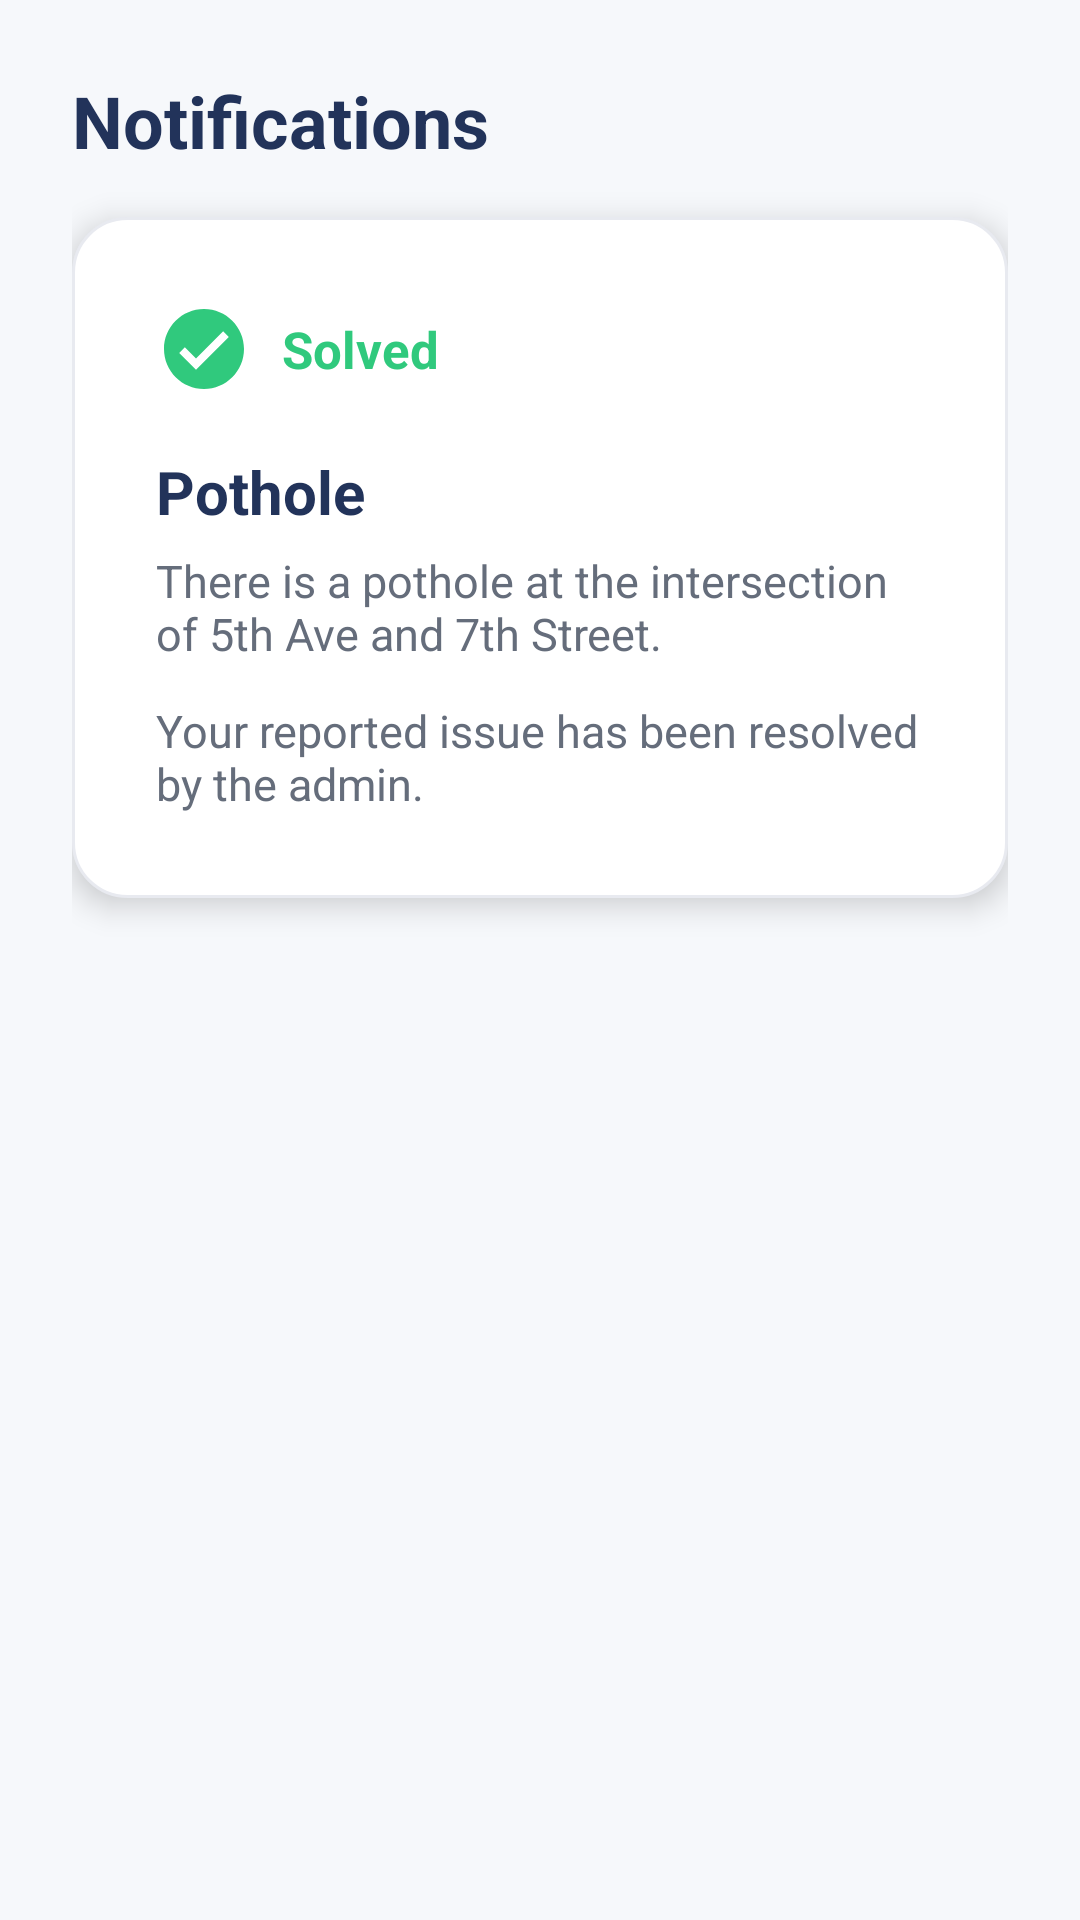

Icons on this 1080px x 1920px Android screen, each with the point to tap as [x,y]:
check circle: [204,349]
